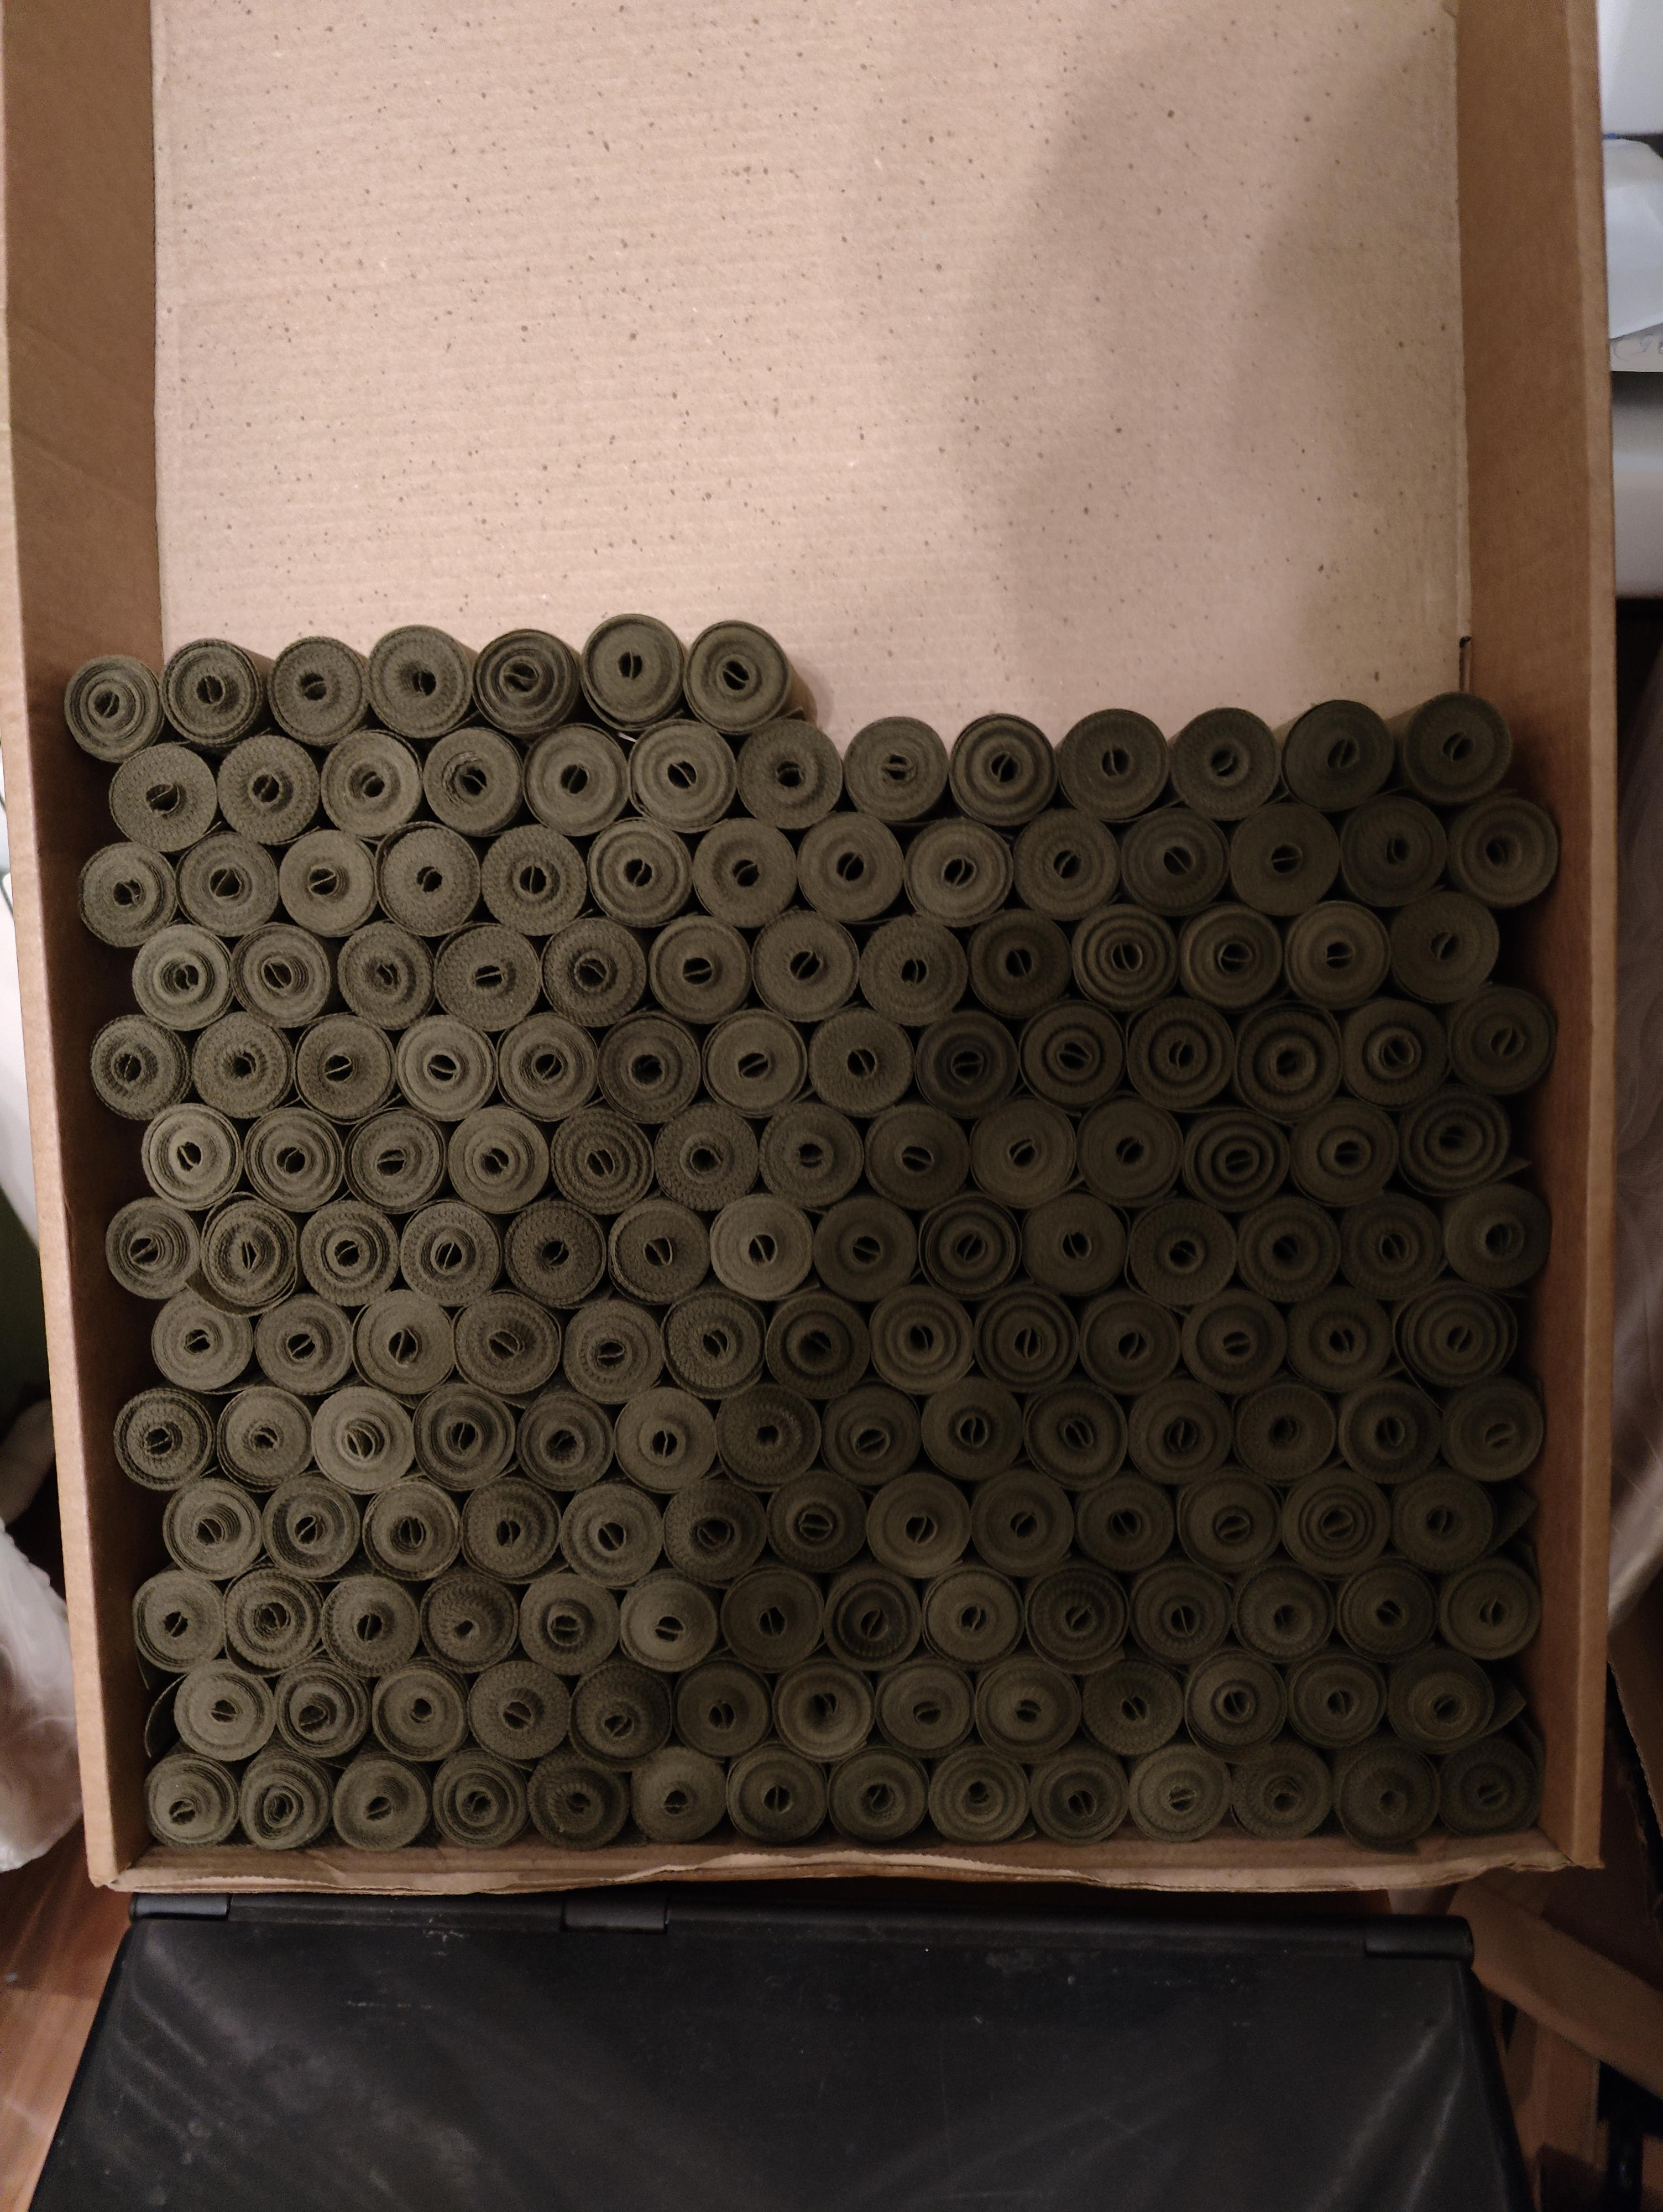roll: (1446, 790, 1565, 912), (1277, 697, 1396, 818), (1399, 688, 1518, 809), (1230, 998, 1347, 1120), (1396, 1279, 1520, 1394), (1443, 982, 1562, 1101), (1053, 706, 1170, 826), (1385, 888, 1501, 1010), (1397, 1085, 1516, 1202), (968, 1096, 1083, 1216), (1073, 1092, 1188, 1213), (578, 612, 692, 734), (1287, 1096, 1404, 1213), (519, 722, 634, 840), (1226, 800, 1342, 919), (1167, 704, 1282, 823), (1335, 994, 1450, 1113), (859, 1101, 975, 1218), (1436, 1373, 1551, 1490), (105, 741, 220, 856), (625, 718, 741, 833), (1118, 1193, 1233, 1309), (681, 619, 795, 736), (1336, 791, 1450, 909), (901, 812, 1015, 930), (1282, 896, 1396, 1013), (1277, 1462, 1394, 1576), (1232, 1193, 1345, 1310), (363, 624, 475, 743), (472, 626, 585, 741), (947, 711, 1060, 826), (1116, 805, 1232, 919), (431, 919, 545, 1034), (1333, 1737, 1446, 1852), (809, 1192, 922, 1307), (1017, 1188, 1130, 1303), (688, 812, 800, 930), (1123, 994, 1235, 1111), (748, 905, 859, 1022), (866, 1281, 978, 1398), (374, 819, 484, 938), (964, 905, 1078, 1019), (1333, 1373, 1446, 1487), (1336, 1192, 1450, 1305), (585, 814, 697, 930), (646, 912, 758, 1027), (596, 1012, 707, 1127), (479, 821, 589, 938), (540, 914, 650, 1031), (842, 713, 954, 826), (307, 1380, 421, 1492), (1010, 807, 1121, 921), (1067, 902, 1181, 1013), (863, 1468, 975, 1581), (1384, 1644, 1497, 1756), (1282, 1282, 1396, 1394), (1017, 996, 1127, 1111), (856, 912, 966, 1027), (807, 1006, 917, 1122), (795, 811, 905, 926), (1439, 1178, 1555, 1288), (652, 1099, 762, 1214), (706, 1190, 816, 1305), (419, 723, 528, 840), (1176, 900, 1287, 1012), (1179, 1644, 1291, 1756), (557, 1478, 669, 1590), (613, 1382, 725, 1494), (500, 1197, 611, 1309), (561, 1291, 673, 1403), (1074, 1288, 1186, 1400), (514, 1384, 624, 1497), (451, 1289, 564, 1400), (349, 1286, 459, 1400), (318, 727, 426, 842), (444, 1103, 552, 1218), (756, 1096, 865, 1211), (169, 1655, 281, 1765), (196, 1199, 306, 1310), (514, 1566, 624, 1677), (735, 718, 845, 830), (547, 1104, 657, 1216), (912, 1008, 1022, 1120), (1389, 1466, 1501, 1576), (1172, 1468, 1282, 1580), (100, 1193, 208, 1307), (213, 732, 320, 847), (84, 1012, 190, 1127), (391, 1013, 501, 1123), (1022, 1560, 1132, 1670), (816, 1380, 926, 1490), (1226, 1559, 1336, 1669), (604, 1197, 714, 1307), (1230, 1377, 1340, 1487), (1125, 1377, 1235, 1487), (1020, 1380, 1130, 1490), (173, 828, 281, 940), (187, 1010, 295, 1122), (970, 1653, 1081, 1761), (1223, 1738, 1335, 1847), (1123, 1738, 1235, 1847), (968, 1466, 1076, 1578), (411, 1379, 519, 1490), (917, 1372, 1025, 1483), (239, 1103, 346, 1216), (136, 1099, 243, 1213), (292, 1012, 398, 1125), (59, 652, 164, 767), (159, 636, 264, 751), (266, 634, 370, 750), (494, 1012, 603, 1122), (465, 1656, 575, 1765), (1331, 1557, 1441, 1665), (720, 1564, 828, 1674), (762, 1289, 870, 1400), (227, 919, 334, 1031), (924, 1742, 1036, 1849), (699, 1006, 805, 1118), (342, 1104, 447, 1218), (147, 1284, 255, 1393), (318, 1569, 426, 1677), (1434, 1732, 1542, 1840), (112, 1384, 220, 1492), (395, 1195, 503, 1303), (770, 1655, 879, 1763), (917, 1562, 1025, 1670), (915, 1193, 1024, 1302), (568, 1658, 674, 1768), (1436, 1555, 1542, 1665), (662, 1288, 769, 1398), (1127, 1555, 1233, 1665), (75, 839, 180, 950), (274, 826, 379, 938), (332, 919, 437, 1031), (1282, 1648, 1394, 1752), (360, 1473, 466, 1581), (872, 1653, 980, 1759), (617, 1567, 723, 1676), (659, 1476, 765, 1585), (973, 1284, 1080, 1393), (1069, 1468, 1176, 1576), (765, 1466, 872, 1574), (128, 921, 232, 1031), (213, 1382, 318, 1492), (295, 1197, 400, 1307), (821, 1559, 926, 1669), (1024, 1744, 1134, 1849), (1074, 1656, 1184, 1761), (725, 1740, 831, 1847), (714, 1386, 821, 1492), (524, 1747, 632, 1852), (129, 1566, 234, 1674), (459, 1475, 564, 1583), (823, 1742, 931, 1847), (419, 1567, 524, 1674), (220, 1566, 327, 1670), (250, 1288, 355, 1394), (236, 1749, 339, 1857), (673, 1655, 776, 1763), (328, 1749, 433, 1854), (428, 1745, 531, 1852), (259, 1473, 362, 1580), (625, 1744, 732, 1847), (266, 1658, 369, 1763), (159, 1475, 262, 1580), (140, 1749, 246, 1850), (367, 1660, 470, 1763), (1186, 1288, 1284, 1396), (1191, 1104, 1293, 1206)
